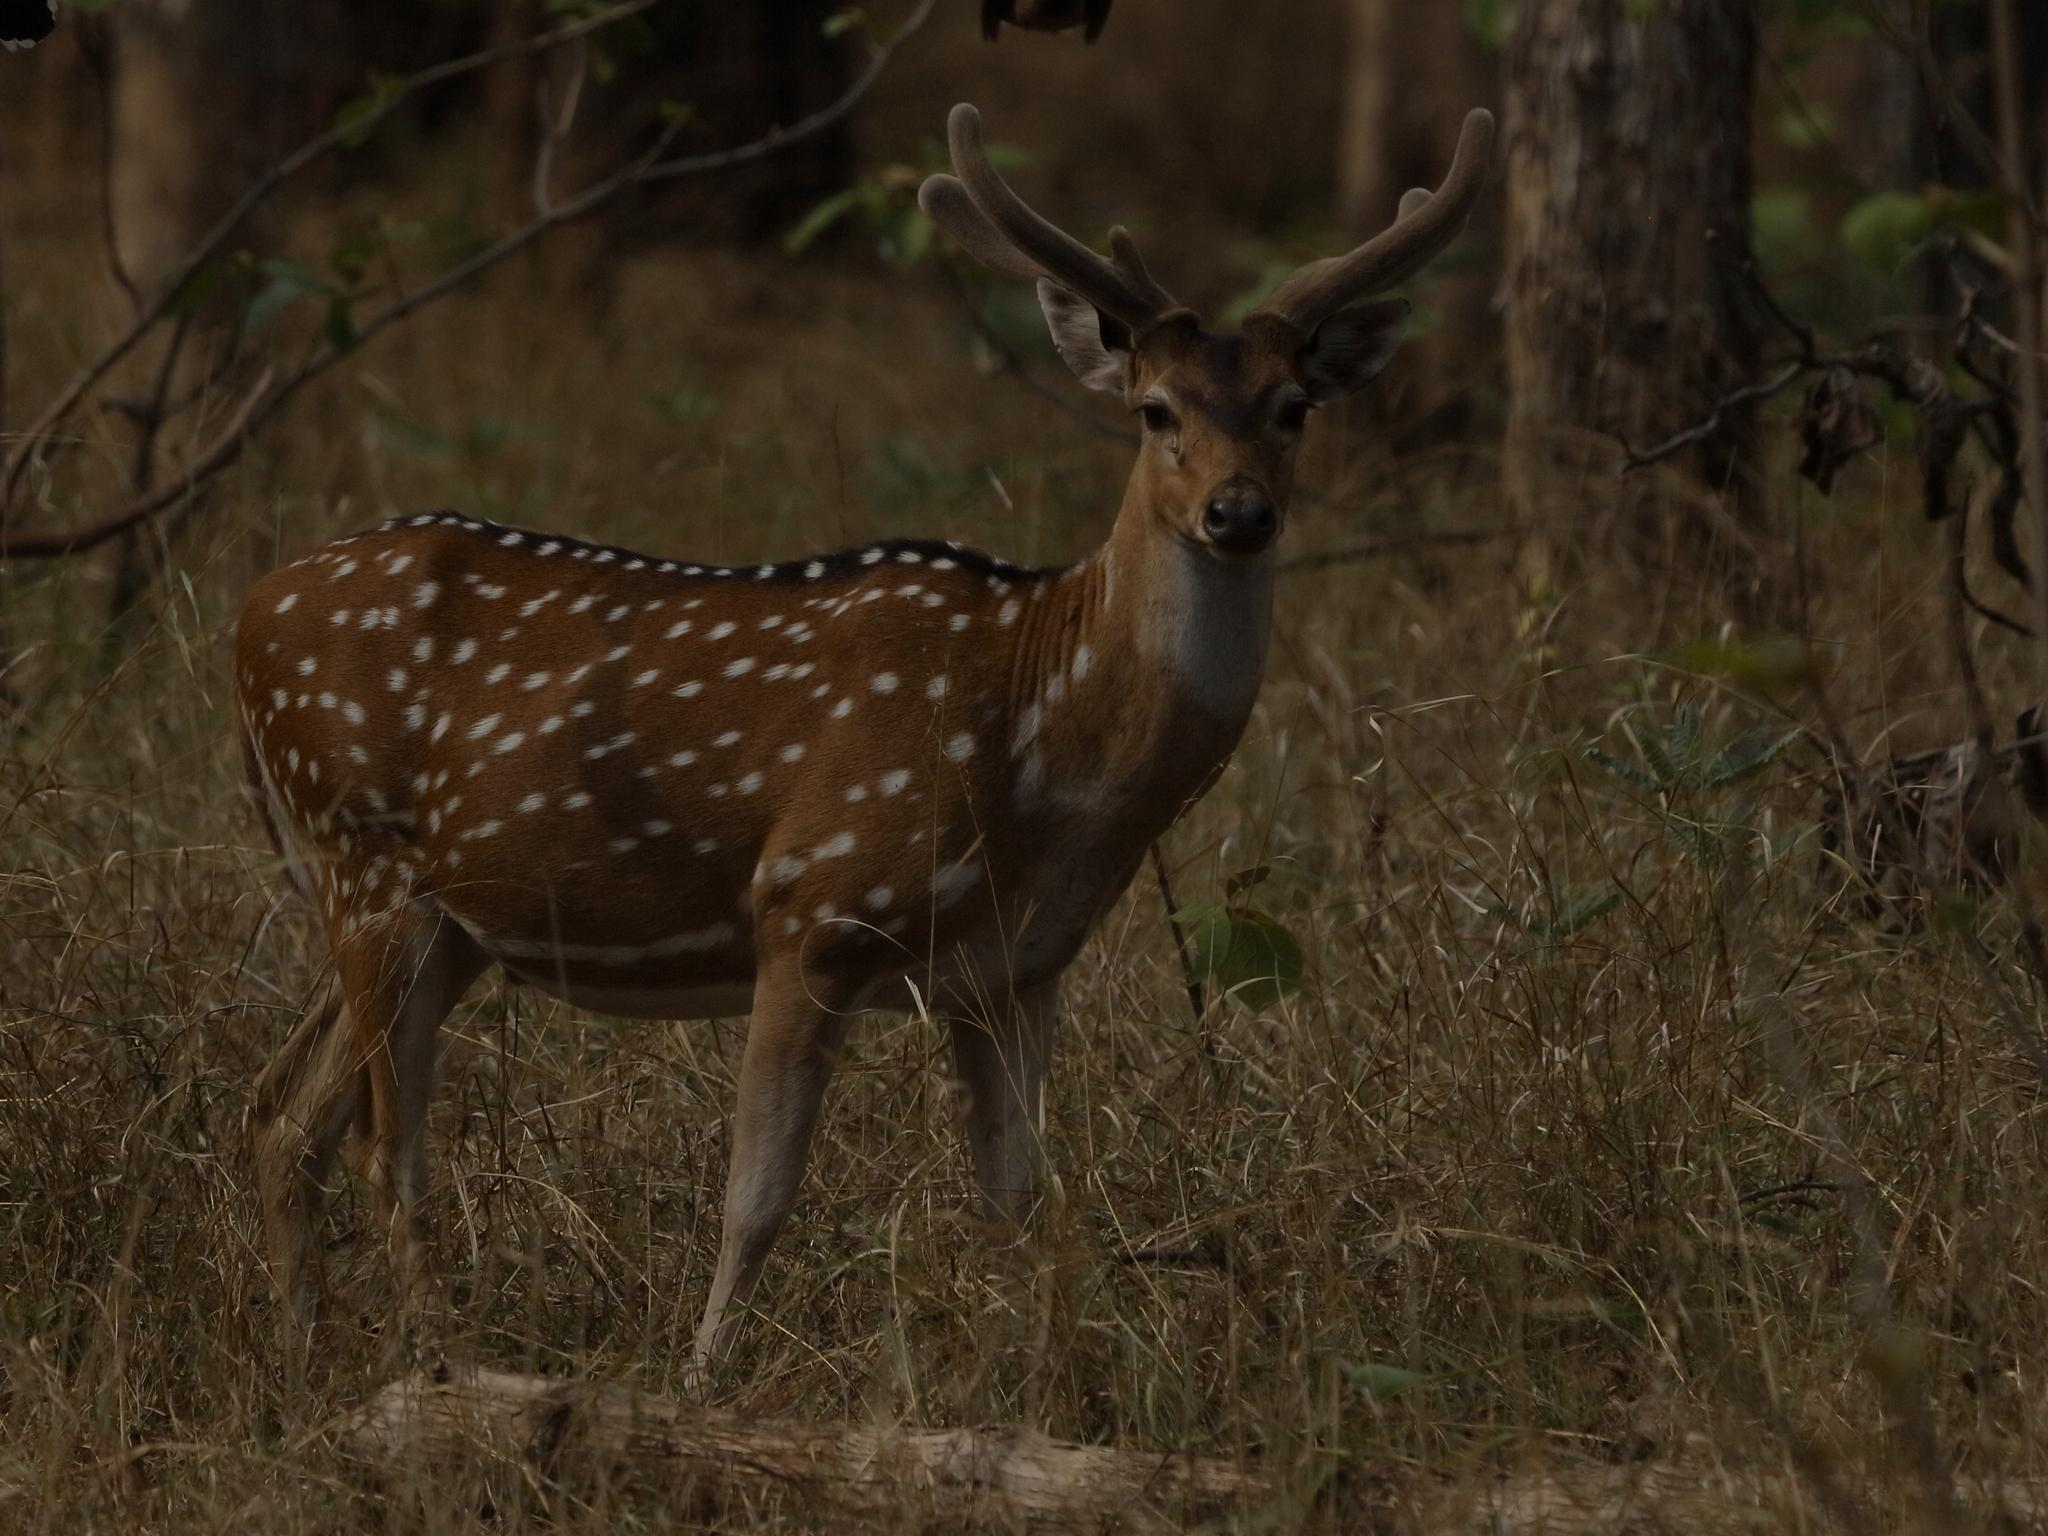Deer: (237, 105, 1492, 1348)
